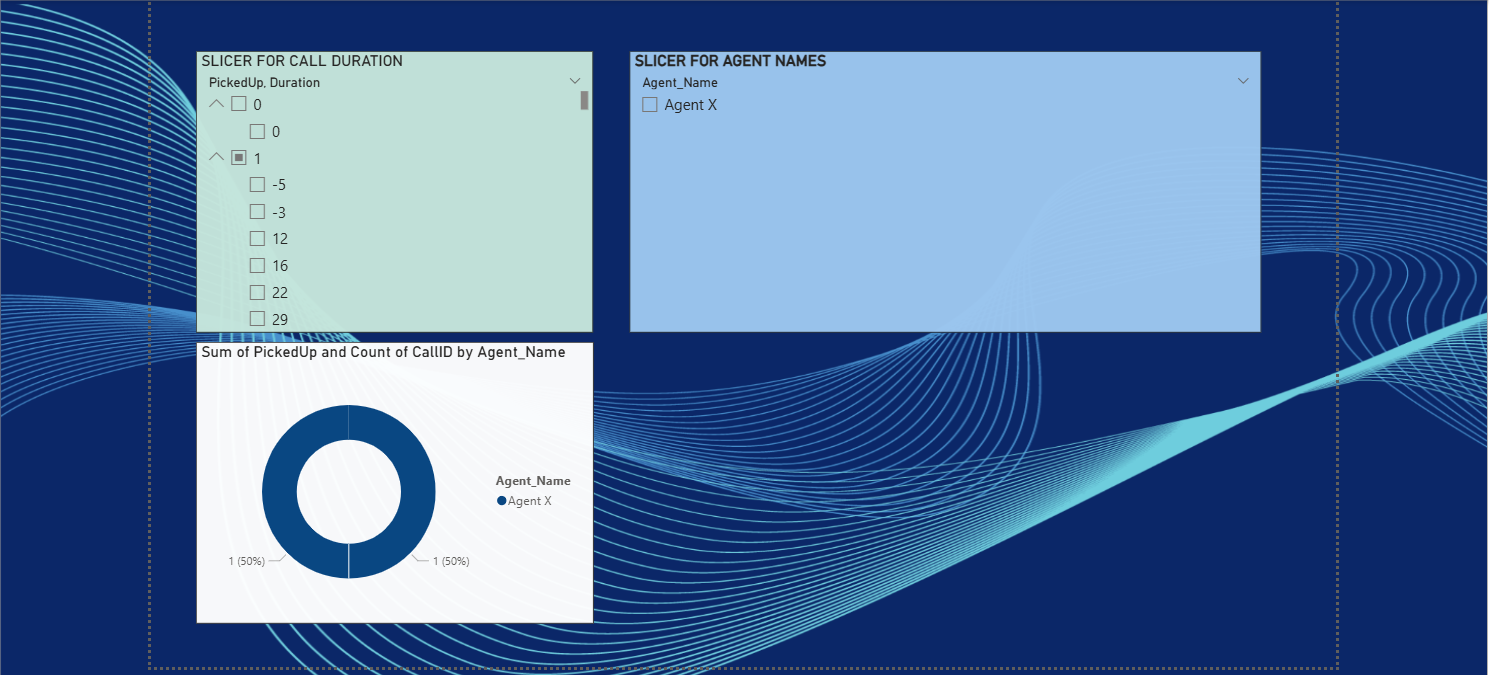

This screenshot's page, from the dashboard's own definition file:
{"tool":"powerbi","page":{"name":"Page 2","canvas":[1280,720],"ordinal":1},"visuals":[{"type":"slicer","title":"SLICER FOR AGENT NAMES","fields":{"Values":["Product_Sales.Agent_Name"]},"box":[515.9,54.8,682.2,304.3],"z":0},{"type":"slicer","title":"SLICER FOR CALL DURATION","fields":{"Values":["Product_Sales.PickedUp","Product_Sales.Duration"]},"box":[49.1,54.8,429,304.3],"z":1000},{"type":"donutChart","fields":{"Category":["Product_Sales.Agent_Name"],"Y":["Sum(Product_Sales.PickedUp)","CountNonNull(Product_Sales.CallID)"]},"box":[49,369,429,304],"z":2000}]}

Visuals, with their boxes in screenshot pixels (x1, y1, x2, y2):
"SLICER FOR AGENT NAMES" slicer: left=624, top=47, right=1255, bottom=328
"SLICER FOR CALL DURATION" slicer: left=193, top=47, right=589, bottom=328
donutChart - Product_Sales.Agent_Name x Sum(Product_Sales.PickedUp): left=193, top=337, right=589, bottom=618
